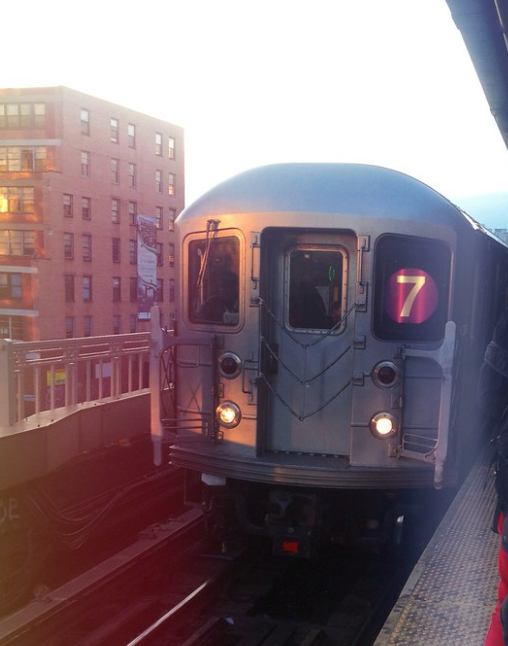train: (171, 150, 462, 490)
